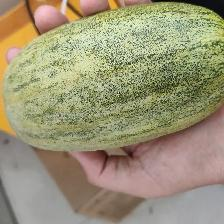gua: (2, 12, 221, 157)
